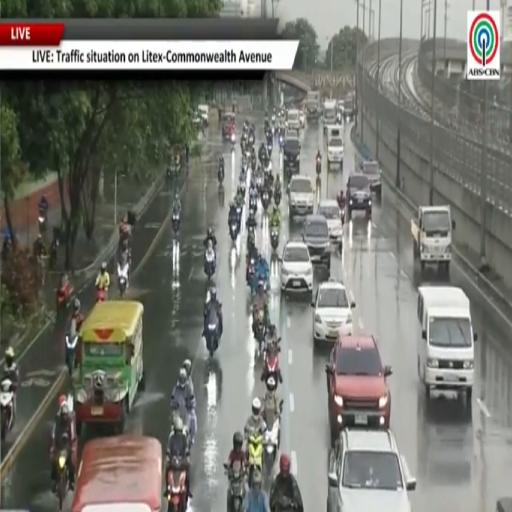car: (327, 429, 416, 511), (326, 334, 392, 439), (312, 280, 355, 343), (302, 215, 330, 276), (280, 242, 312, 293), (346, 173, 372, 220), (318, 200, 343, 247), (288, 175, 314, 218), (360, 160, 381, 197), (283, 134, 300, 175), (328, 137, 344, 169), (287, 109, 300, 130), (198, 105, 209, 126), (285, 130, 299, 138), (299, 109, 305, 127)
jeepney: (72, 301, 144, 435), (72, 436, 162, 511), (221, 112, 235, 139)
motorcycle: (171, 398, 195, 447), (263, 411, 279, 478), (167, 458, 187, 511), (224, 461, 245, 511), (57, 435, 69, 511), (0, 378, 14, 442), (248, 431, 263, 487), (263, 339, 281, 385), (205, 309, 219, 357), (57, 279, 73, 314), (65, 333, 78, 375), (254, 310, 265, 354), (275, 496, 297, 511), (118, 266, 128, 299), (204, 249, 215, 279), (49, 237, 59, 269), (246, 258, 255, 285), (38, 208, 47, 234), (270, 227, 279, 250), (261, 190, 270, 212), (247, 226, 255, 250), (236, 204, 242, 232), (96, 287, 107, 302), (173, 212, 180, 235), (230, 222, 238, 242), (236, 204, 242, 229), (249, 197, 257, 215), (274, 188, 281, 206), (256, 174, 263, 190), (218, 166, 224, 184), (240, 181, 246, 197), (316, 158, 321, 176), (231, 134, 235, 152), (341, 208, 345, 225), (249, 134, 254, 147), (279, 135, 283, 151), (271, 125, 275, 137), (268, 144, 272, 156)
truck: (411, 205, 455, 274), (306, 91, 320, 120)
